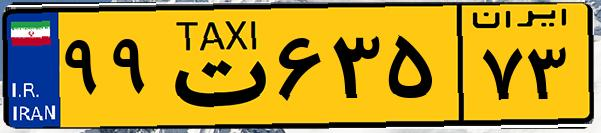3: (330, 28, 385, 110), (525, 38, 570, 115)
5: (385, 28, 445, 110)
6: (270, 28, 330, 110)
7: (475, 38, 525, 113)
9: (57, 26, 110, 100), (110, 28, 158, 98)
ت: (158, 12, 270, 120)
